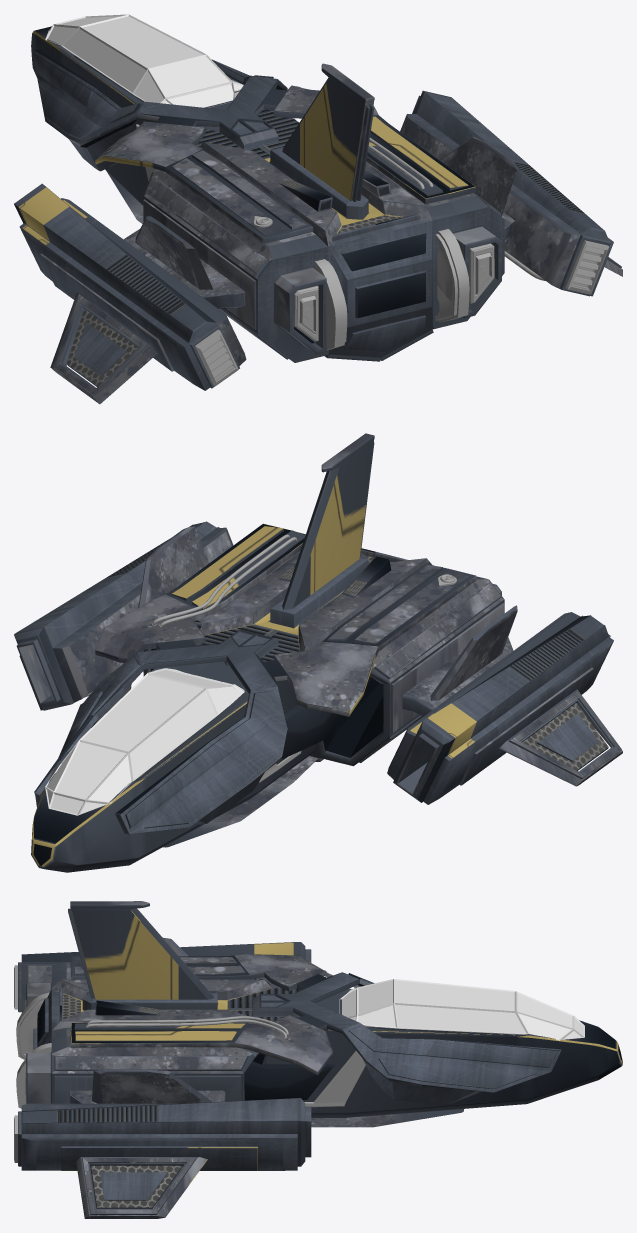
The model's file is ship.fbx.
The picture shows the model from 3 angles, top to bottom: view 1: azimuth 30°, elevation 25°; view 2: azimuth 150°, elevation 25°; view 3: azimuth 270°, elevation 25°; orthographic projection. The views are drawn at different scales.
Parts seen in each view (by area): view 1: ship, cockpitglas, cockpit.001; view 2: ship, cockpitglas, cockpit.001; view 3: ship, cockpitglas, cockpit.001.
Part boxes in pixels (x1,y1,x2,y2): ship: (14,26,622,404); cockpitglas: (46,16,242,107); cockpit.001: (45,14,243,107); ship: (14,433,622,872); cockpitglas: (47,670,241,814); cockpit.001: (45,668,244,815); ship: (14,901,622,1218); cockpitglas: (342,980,583,1040); cockpit.001: (339,979,584,1039).
Size of the model in its own units: 1016 by 473 by 1209.
8 materials, 1 textured.
